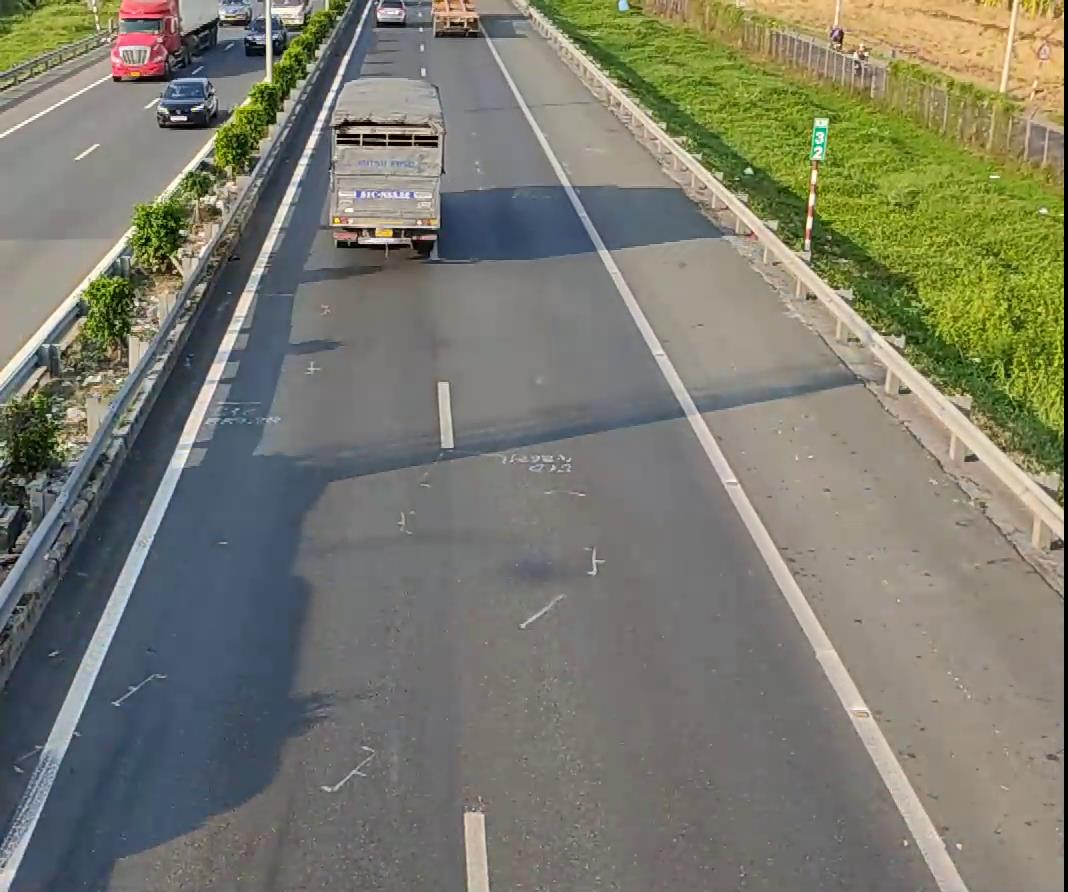container: (108, 0, 210, 79)
truck: (322, 75, 445, 255)
